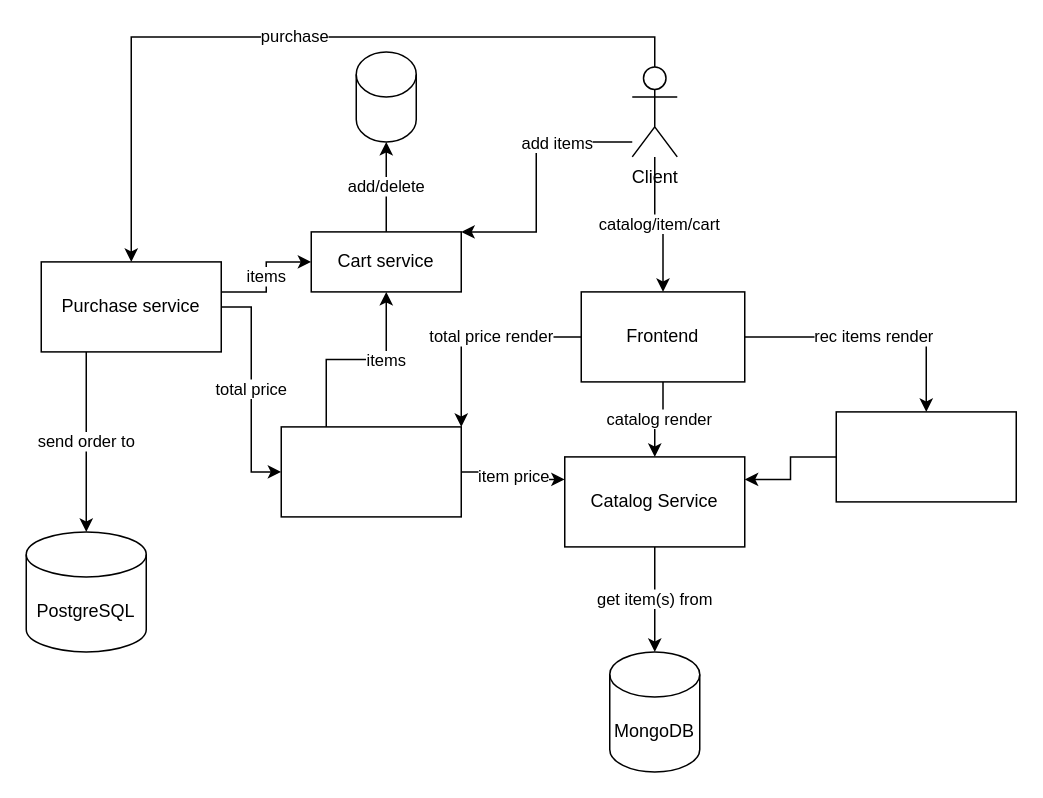
The diagram is 1043 pixels wide and 798 high, and some of its shapes have lost their labels. Each missing label, with the centre of its shape:
"Pricing service" goes at point 370,471.
"Recommendations service" goes at point 925,456.
"redis" goes at point 385,96.
